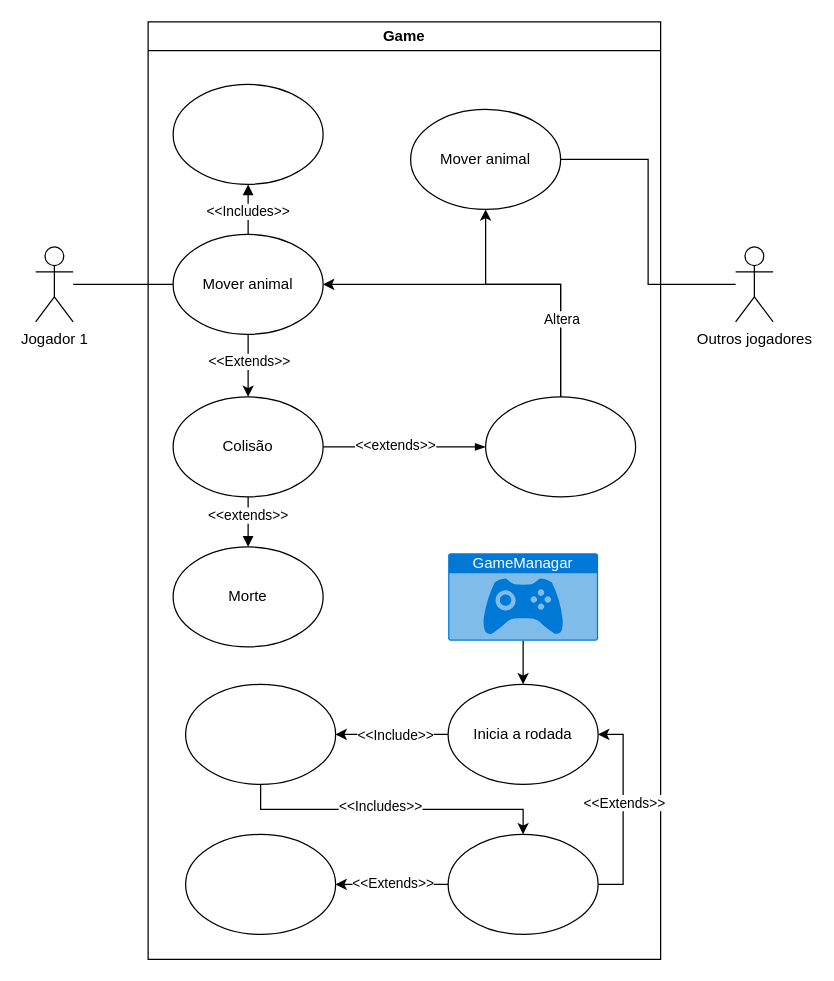
This 834x981 diagram has some shape labels left out. The centre of each missing label's shape, as x and y in pixels:
Coletar poder: point 560,446
Distribuição de pontos e verificação de pontos: point 522,883
Fim da rodada: point 260,733
Finaliza a partida e declara vencedor: point 260,883
Gerar rastro: point 247,133
